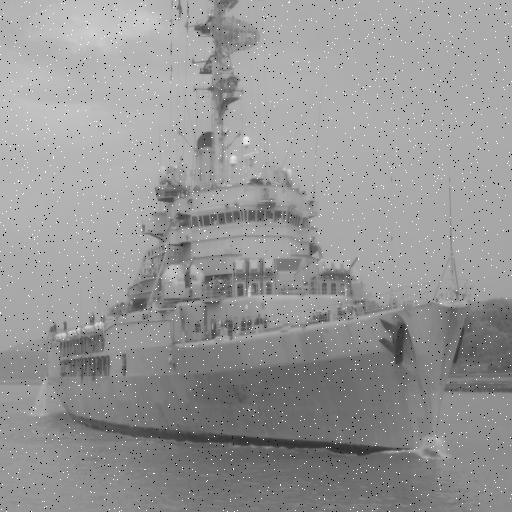Portanaves: (35, 1, 479, 456)
